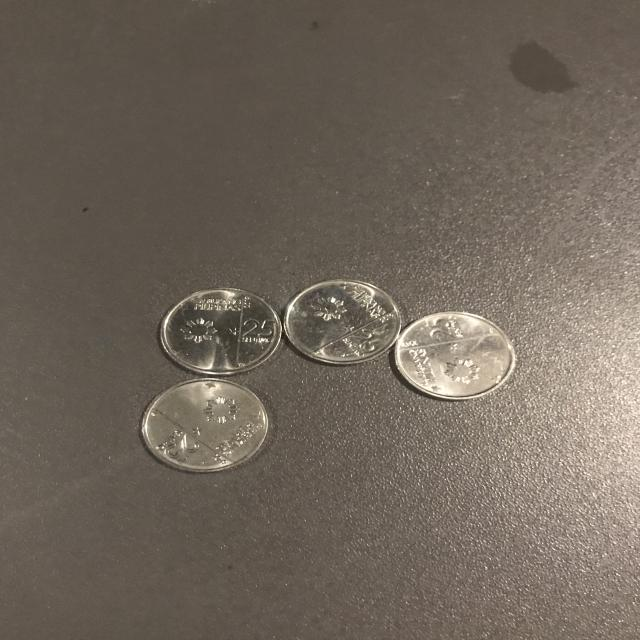25Cent_New_Front: (153, 382, 270, 464), (394, 312, 502, 400), (289, 285, 389, 359), (164, 301, 274, 365)
